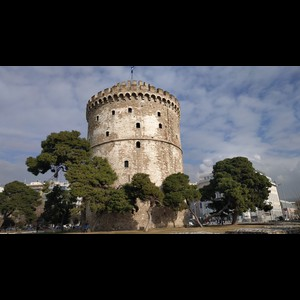White Tower: (77, 67, 190, 231)
